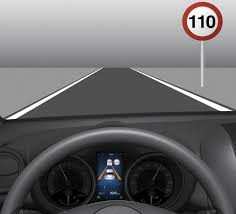Speed_limit_110km: (182, 2, 223, 41)
